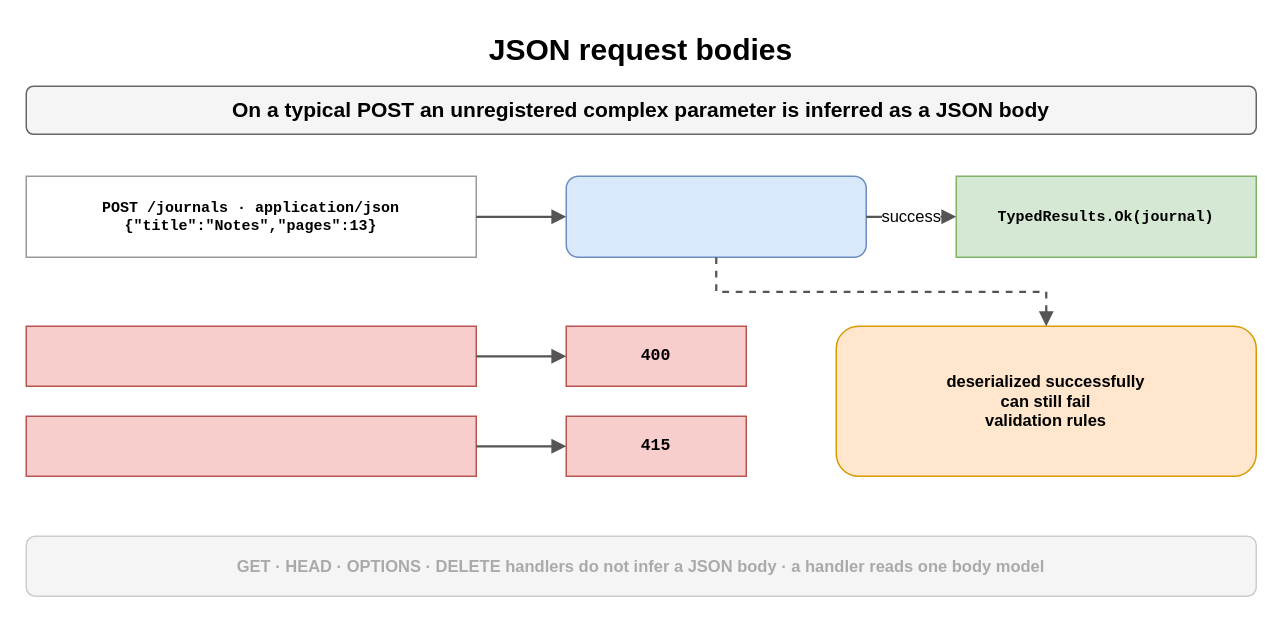
Some shapes in this 1283 by 623 pixel diagram are drawn without their labels. The shapes that lost their labels are listed below. From the top down, each one's centre as x and y in pixels, then its label:
At pixel 715 216: "deserialize into [FromBody] Journal".
At pixel 250 355: "malformed JSON document".
At pixel 250 445: "unsupported body media type".
